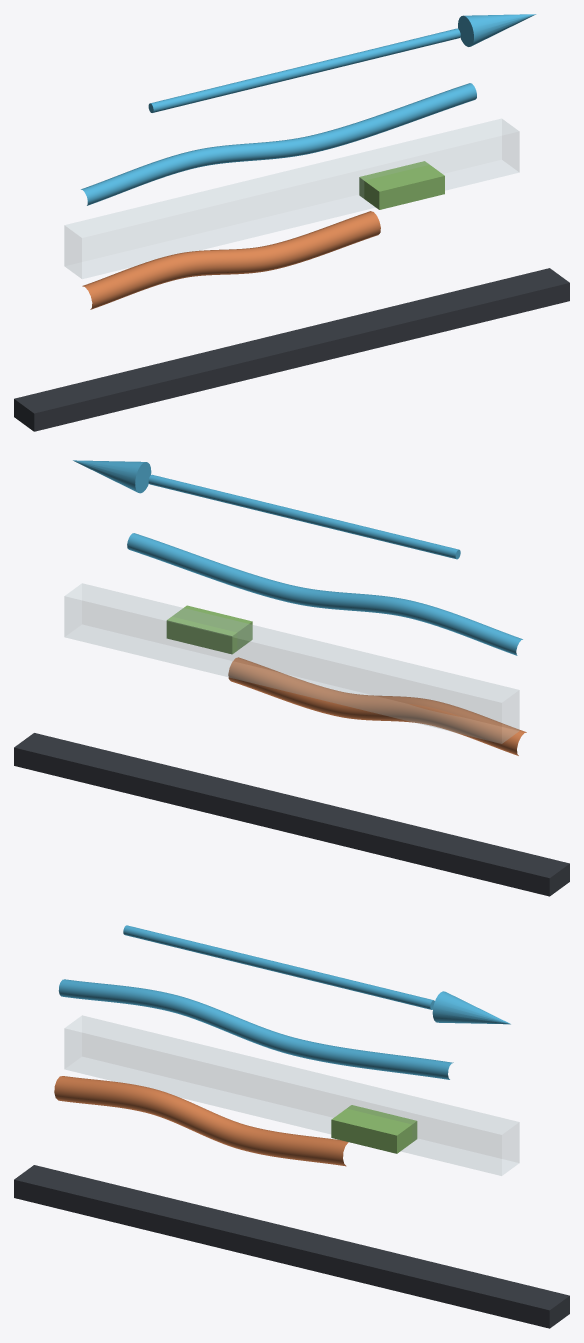
File: physics-fluids-flow-viscosity.glb
3 renders of one model, top to bottom at view 1: azimuth 30°, elevation 25°; view 2: azimuth 150°, elevation 25°; view 3: azimuth 330°, elevation 25°, orthographic.
Visible parts, largest first — view 1: flow-channel-clear-tube, fluid-lab-bench, slow-syrup-stream-high-viscosity, fast-water-stream-low-viscosity, flow-rate-direction-shaft, narrow-channel-resistance, flow-rate-direction-head; view 2: flow-channel-clear-tube, fluid-lab-bench, slow-syrup-stream-high-viscosity, fast-water-stream-low-viscosity, flow-rate-direction-shaft, narrow-channel-resistance, flow-rate-direction-head; view 3: flow-channel-clear-tube, fluid-lab-bench, slow-syrup-stream-high-viscosity, fast-water-stream-low-viscosity, flow-rate-direction-shaft, narrow-channel-resistance, flow-rate-direction-head.
Boxes of the visible parts, bbox=[...] form: flow-channel-clear-tube: bbox=[64, 119, 519, 278]; fluid-lab-bench: bbox=[14, 268, 569, 431]; slow-syrup-stream-high-viscosity: bbox=[82, 211, 380, 309]; fast-water-stream-low-viscosity: bbox=[81, 83, 476, 205]; flow-rate-direction-shaft: bbox=[148, 28, 460, 112]; narrow-channel-resistance: bbox=[359, 161, 444, 209]; flow-rate-direction-head: bbox=[458, 14, 536, 46]; flow-channel-clear-tube: bbox=[64, 583, 519, 743]; fluid-lab-bench: bbox=[14, 733, 569, 896]; slow-syrup-stream-high-viscosity: bbox=[228, 657, 526, 755]; fast-water-stream-low-viscosity: bbox=[127, 533, 522, 655]; flow-rate-direction-shaft: bbox=[148, 474, 460, 559]; narrow-channel-resistance: bbox=[166, 605, 252, 654]; flow-rate-direction-head: bbox=[73, 460, 151, 493]; flow-channel-clear-tube: bbox=[64, 1015, 519, 1175]; fluid-lab-bench: bbox=[14, 1165, 569, 1328]; slow-syrup-stream-high-viscosity: bbox=[54, 1076, 348, 1166]; fast-water-stream-low-viscosity: bbox=[58, 979, 453, 1079]; flow-rate-direction-shaft: bbox=[123, 925, 434, 1009]; narrow-channel-resistance: bbox=[331, 1105, 417, 1153]; flow-rate-direction-head: bbox=[432, 991, 510, 1024].
Size of what is drawn, in the model's own units: 2.45 by 1.36 by 0.27.
